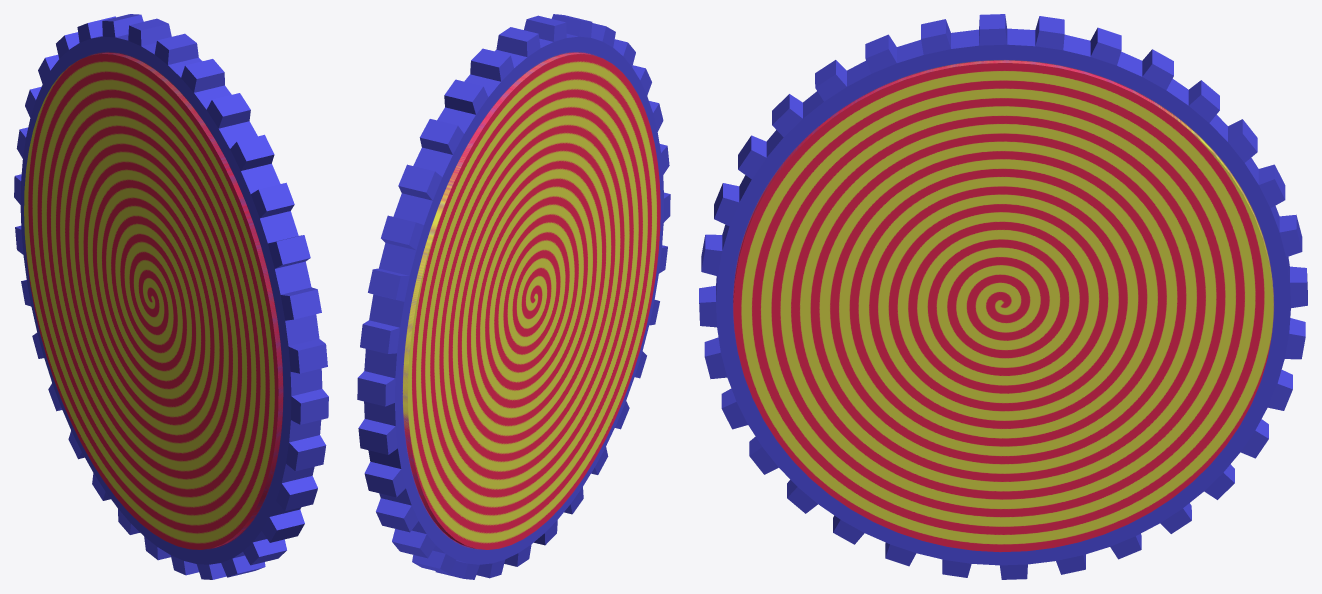
File: BigGear.fbx
The picture shows the model from 3 angles, left to right: view 1: azimuth 30°, elevation 25°; view 2: azimuth 150°, elevation 25°; view 3: azimuth 270°, elevation 25°; orthographic projection. The views are drawn at different scales.
Parts seen in each view (by area): view 1: BigGear; view 2: BigGear; view 3: BigGear.
Part boxes in pixels (bbox=[...]): BigGear: bbox=[14, 14, 328, 579]; BigGear: bbox=[357, 14, 670, 579]; BigGear: bbox=[699, 14, 1307, 579].
Size of the model in its own units: 33.4 by 400 by 400.
Materials: 1 (1 with a texture image).
